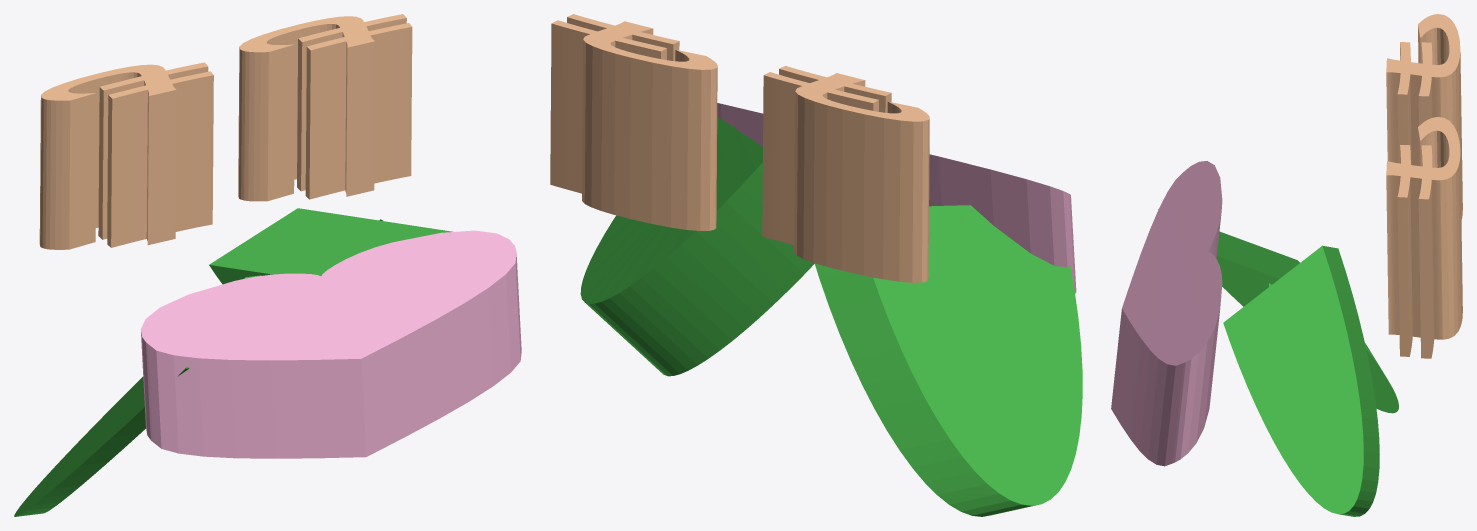
The model's file is tinker.obj.
3 views of the same model, side by side, from view 1: azimuth 30°, elevation 25°; view 2: azimuth 150°, elevation 25°; view 3: azimuth 270°, elevation 25° (orthographic). The views are drawn at different scales.
Visible parts, largest first — view 1: group_0_15708628, group_0_16500122, group_0_4634441; view 2: group_0_4634441, group_0_16500122, group_0_15708628; view 3: group_0_4634441, group_0_15708628, group_0_16500122.
Part boxes in pixels (box(x1,y1,x2,y2)): group_0_15708628: box(140, 230, 521, 458); group_0_16500122: box(39, 14, 412, 249); group_0_4634441: box(14, 208, 453, 516); group_0_4634441: box(580, 116, 1082, 516); group_0_16500122: box(550, 14, 929, 282); group_0_15708628: box(717, 103, 1076, 293); group_0_4634441: box(1158, 209, 1398, 516); group_0_15708628: box(1111, 161, 1222, 466); group_0_16500122: box(1386, 14, 1462, 358).
Bounding box in the file's own units: 31.57 × 25.7 × 20.
